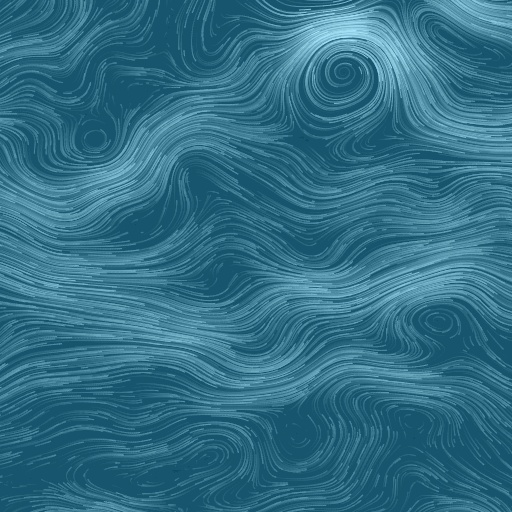eddy: (128, 432, 235, 496), (304, 38, 386, 112), (415, 303, 465, 347), (77, 123, 113, 155)
